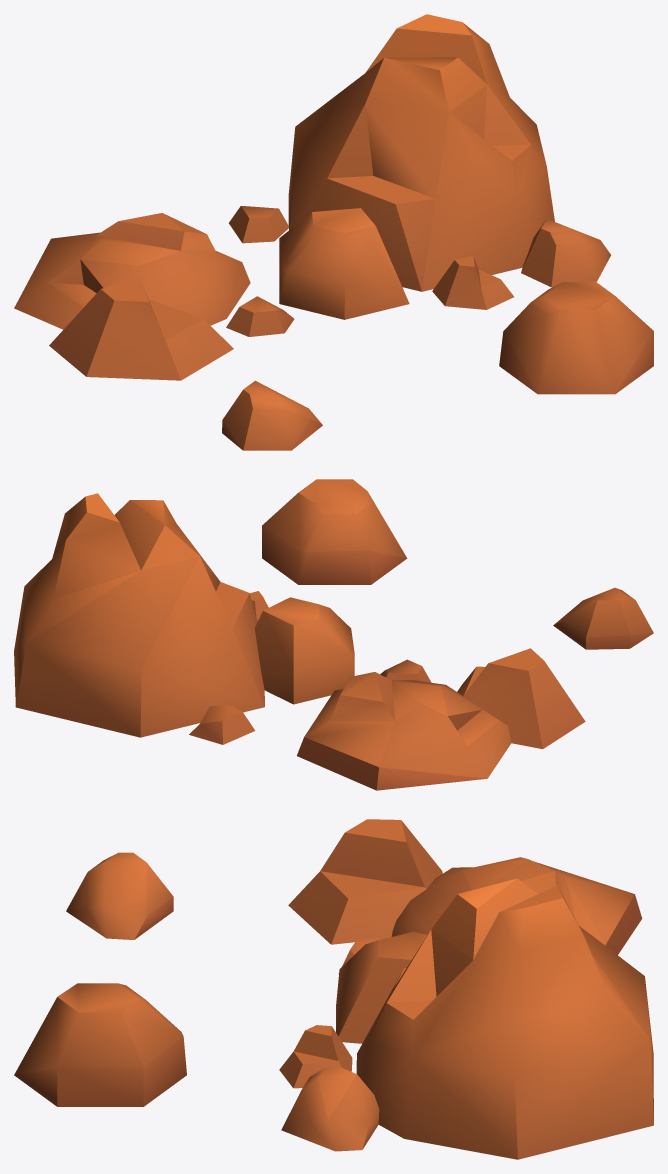
Rendered from Rocks.glb.
The picture shows the model from 3 angles, top to bottom: view 1: azimuth 30°, elevation 25°; view 2: azimuth 150°, elevation 25°; view 3: azimuth 270°, elevation 25°; orthographic projection. The views are drawn at different scales.
Parts seen in each view (by area): view 1: rocks_B, rocks_A, rock_B, rock_A; view 2: rocks_B, rocks_A, rock_B, rock_A; view 3: rocks_B, rocks_A, rock_B, rock_A.
Boxes of the visible parts, left/top/right/bottom form: rocks_B: left=229, top=14, right=610, bottom=319; rocks_A: left=14, top=213, right=294, bottom=380; rock_B: left=499, top=281, right=653, bottom=394; rock_A: left=222, top=380, right=322, bottom=450; rocks_B: left=14, top=493, right=354, bottom=744; rocks_A: left=297, top=648, right=585, bottom=790; rock_B: left=262, top=479, right=407, bottom=584; rock_A: left=553, top=587, right=653, bottom=649; rocks_B: left=279, top=878, right=653, bottom=1159; rocks_A: left=288, top=819, right=642, bottom=973; rock_B: left=14, top=983, right=186, bottom=1106; rock_A: left=66, top=852, right=173, bottom=939.
Size of the model in its own units: 3.2 by 1.07 by 2.97.
1 material, 1 textured.
